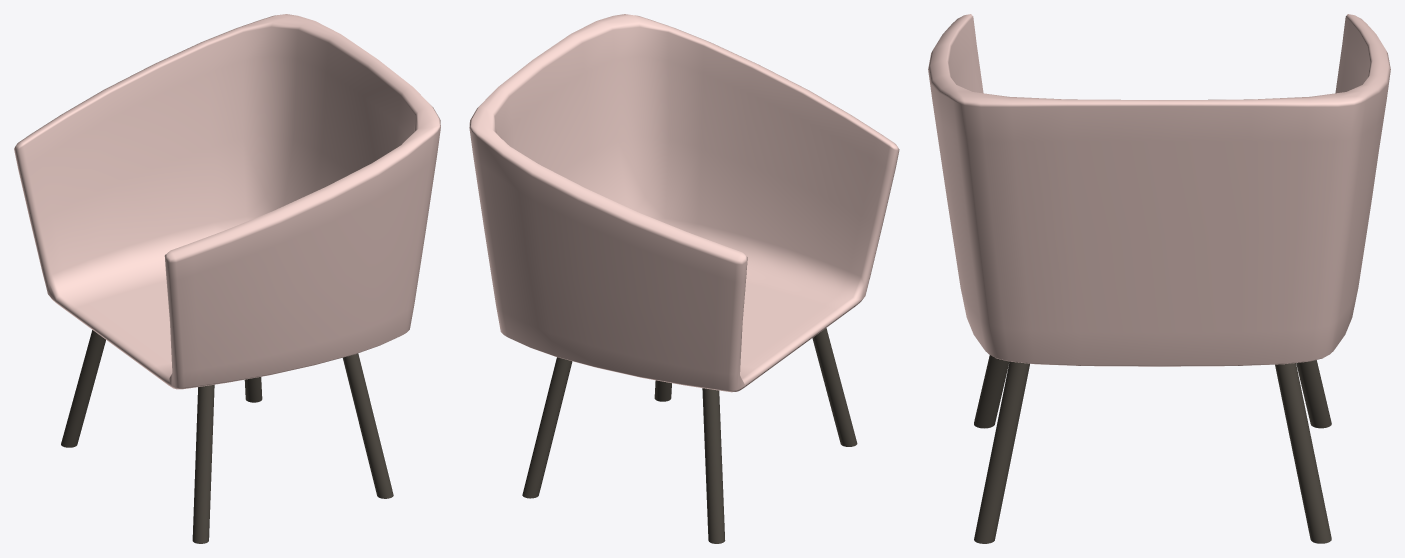
Rendered from Chair.fbx.
3 renders of one model, left to right at view 1: azimuth 30°, elevation 25°; view 2: azimuth 150°, elevation 25°; view 3: azimuth 270°, elevation 25°, orthographic. The views are drawn at different scales.
Visible parts, largest first — view 1: polySurface940; view 2: polySurface940; view 3: polySurface940.
Part boxes in pixels (x1,y1,x2,y2): polySurface940: (14, 14, 440, 543); polySurface940: (469, 14, 899, 543); polySurface940: (928, 14, 1390, 543).
Bounding box in the file's own units: 72.19 × 88.47 × 78.01.
